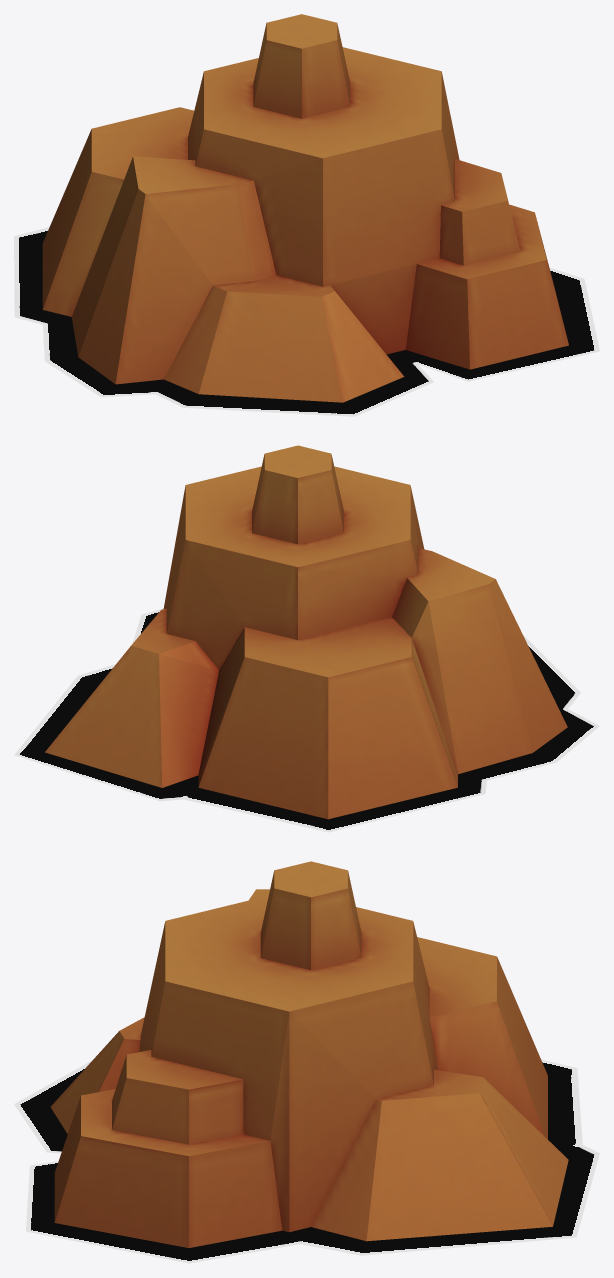
Rendered from 2x2_rock.FBX.
The picture shows the model from 3 angles, top to bottom: view 1: azimuth 30°, elevation 25°; view 2: azimuth 150°, elevation 25°; view 3: azimuth 270°, elevation 25°; orthographic projection. The views are drawn at different scales.
Parts seen in each view (by area): view 1: 2x2_rock, 2x2_rock_soft_shadow; view 2: 2x2_rock, 2x2_rock_soft_shadow; view 3: 2x2_rock, 2x2_rock_soft_shadow.
Boxes of the visible parts, x1,y1,x2,y2 form: 2x2_rock: (42, 14, 568, 402); 2x2_rock_soft_shadow: (14, 227, 599, 416); 2x2_rock: (45, 445, 567, 819); 2x2_rock_soft_shadow: (14, 608, 599, 832); 2x2_rock: (50, 861, 568, 1247); 2x2_rock_soft_shadow: (14, 1059, 599, 1263).
Bounding box in the file's own units: 2311 × 1180 × 2299.
